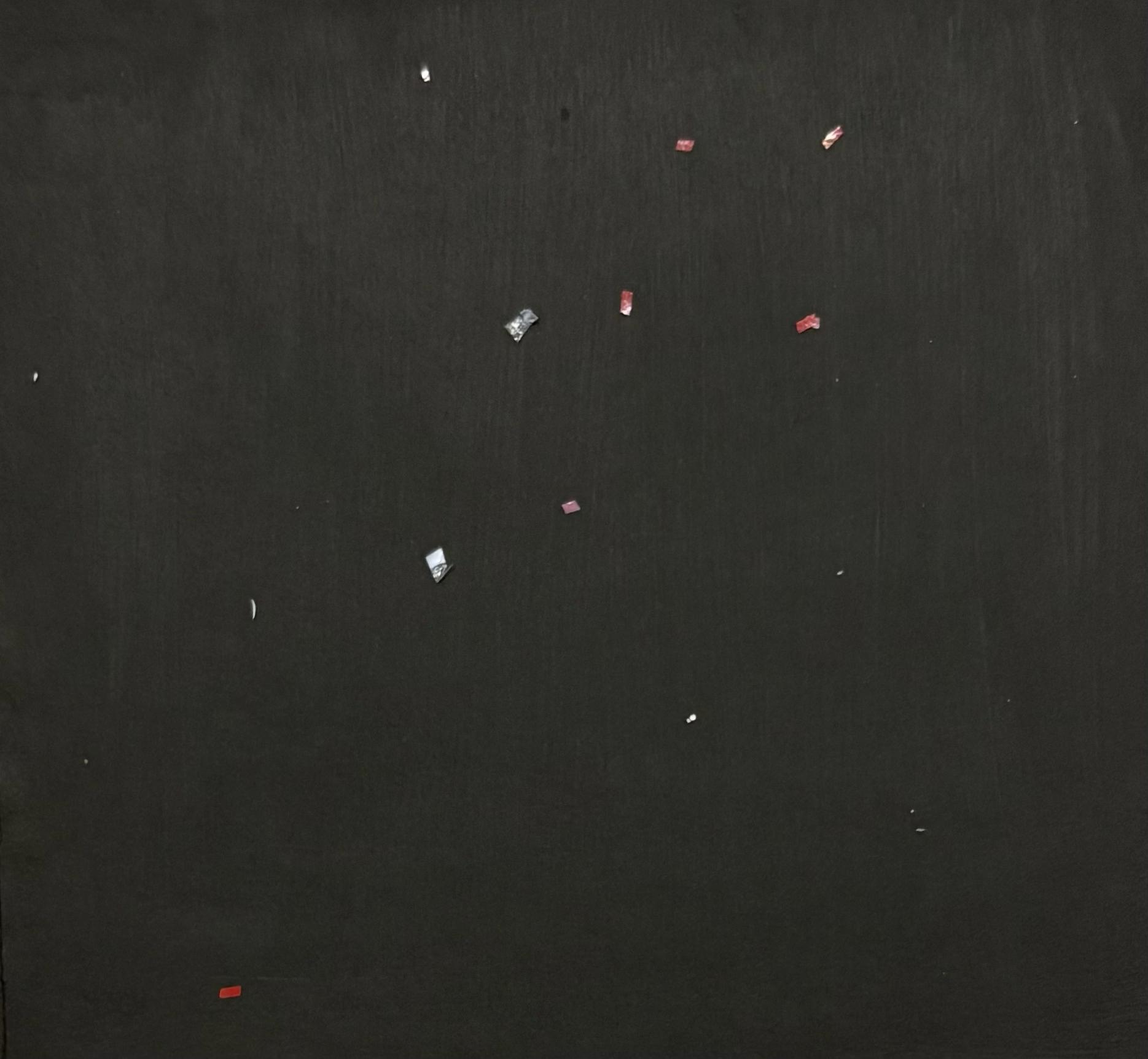Microplastic Particle: (504, 307, 539, 342), (424, 544, 453, 585), (822, 125, 843, 149), (796, 313, 820, 333), (620, 289, 633, 316), (219, 985, 241, 999), (561, 498, 580, 514), (675, 138, 695, 152), (420, 61, 431, 82), (249, 596, 257, 621), (685, 713, 697, 724), (31, 370, 39, 385), (915, 827, 927, 833), (837, 569, 845, 577), (83, 759, 88, 765), (835, 378, 841, 383), (294, 506, 301, 510), (1074, 119, 1078, 126), (910, 809, 915, 813), (326, 500, 331, 504), (929, 340, 933, 344), (1007, 699, 1012, 702)
